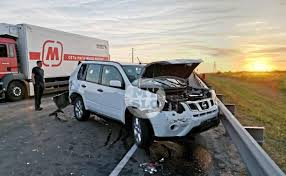car: (60, 52, 211, 141)
